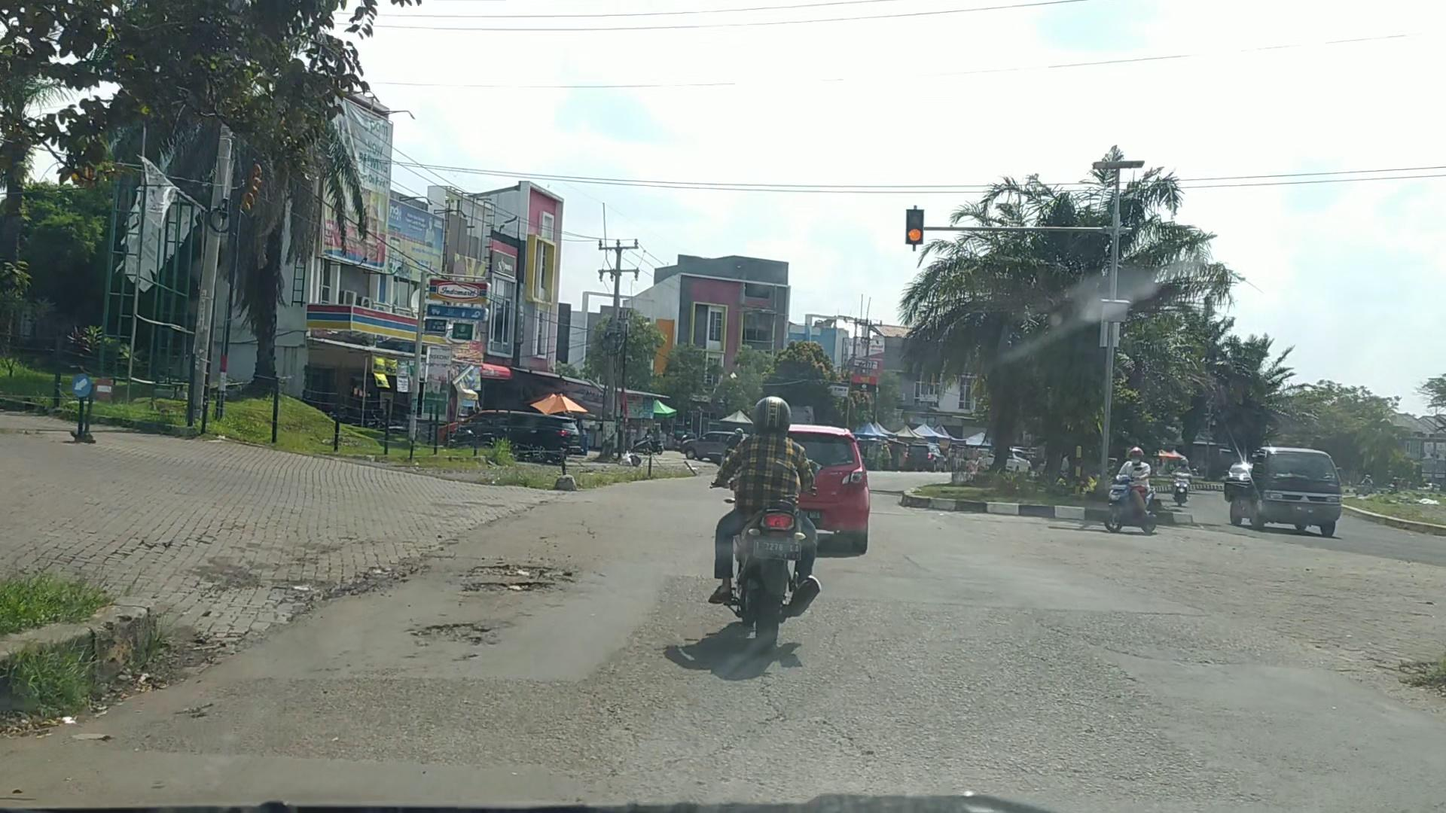pothole: (459, 561, 576, 595), (407, 620, 491, 648)
